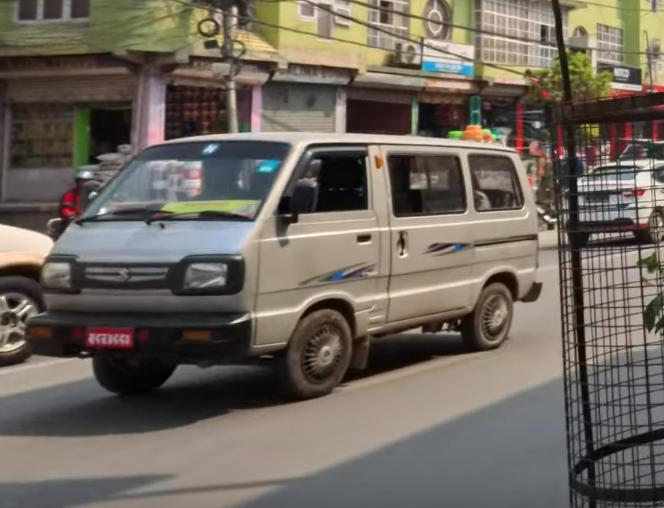car: (556, 153, 664, 244)
van: (15, 122, 555, 404)
